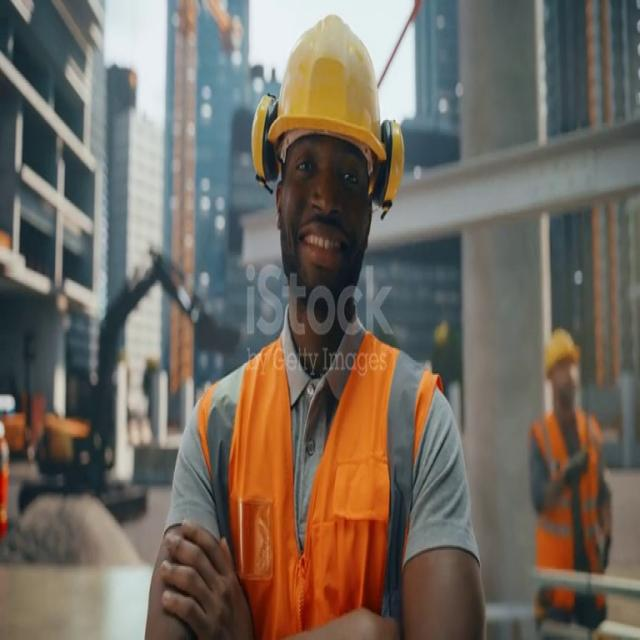capacete: (240, 8, 414, 238)
